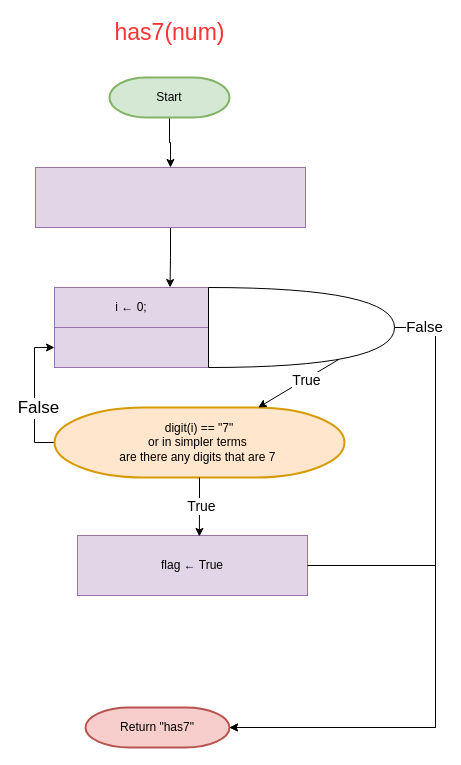
This 461x765 diagram has some shape labels left out. Here are the shapes that lost their labels. From the top down, the box of each, then its label:
(34, 166, 306, 228): flag ← false digits ← num (transformed into string words)
(54, 326, 208, 368): i ← i + 1
(208, 286, 394, 368): flag is false and i <= digits length
